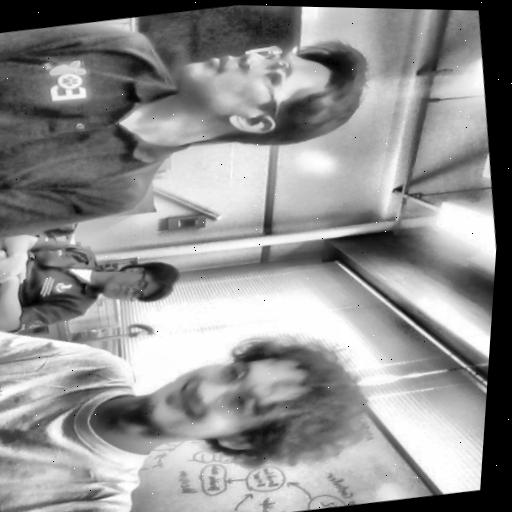Daifuku: (133, 325, 374, 481)
Not Daifuku: (158, 27, 376, 161), (96, 255, 188, 310)
